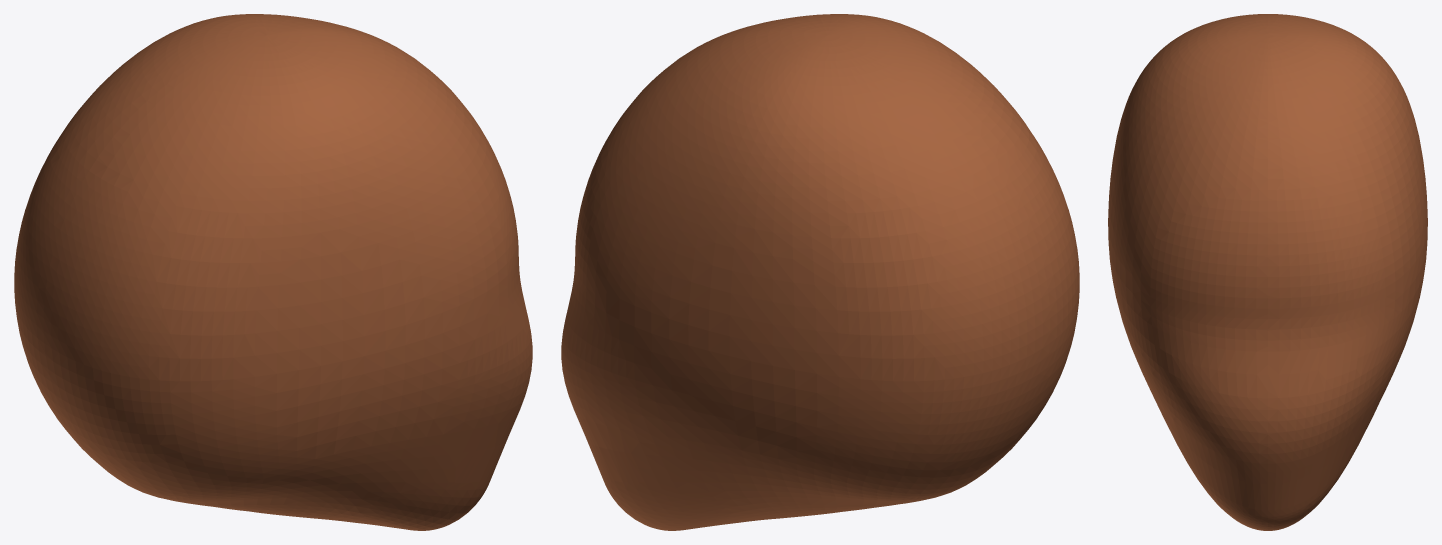
The model's file is head.dae.
3 views of the same model, side by side, from view 1: azimuth 30°, elevation 25°; view 2: azimuth 150°, elevation 25°; view 3: azimuth 270°, elevation 25° (orthographic). The views are drawn at different scales.
Parts seen in each view (by area): view 1: polySurface1; view 2: polySurface1; view 3: polySurface1.
Boxes of the visible parts, x1=… form: polySurface1: x1=14, y1=14, x2=532, y2=530; polySurface1: x1=561, y1=14, x2=1079, y2=530; polySurface1: x1=1108, y1=14, x2=1427, y2=530.
Bounding box in the file's own units: 0.206 × 0.2205 × 0.149.
